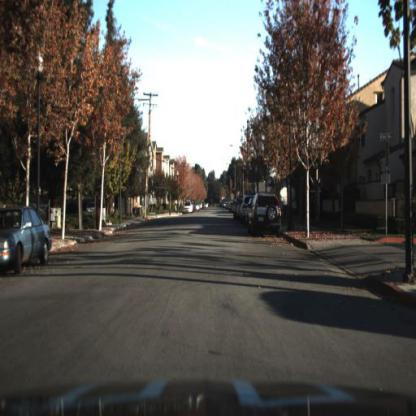car: (2, 206, 54, 276), (248, 191, 285, 238), (182, 200, 195, 216)
